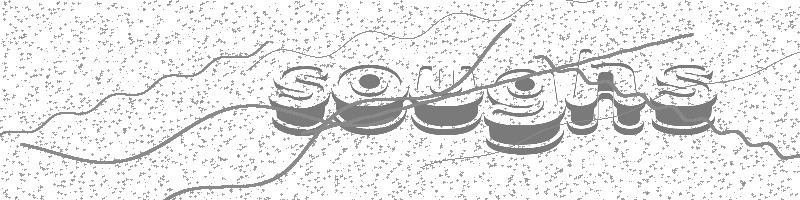g: (482, 64, 567, 156)
h: (565, 47, 644, 135)
o: (332, 60, 408, 136)
s: (643, 61, 716, 137), (267, 60, 332, 138)
u: (408, 62, 485, 137)
